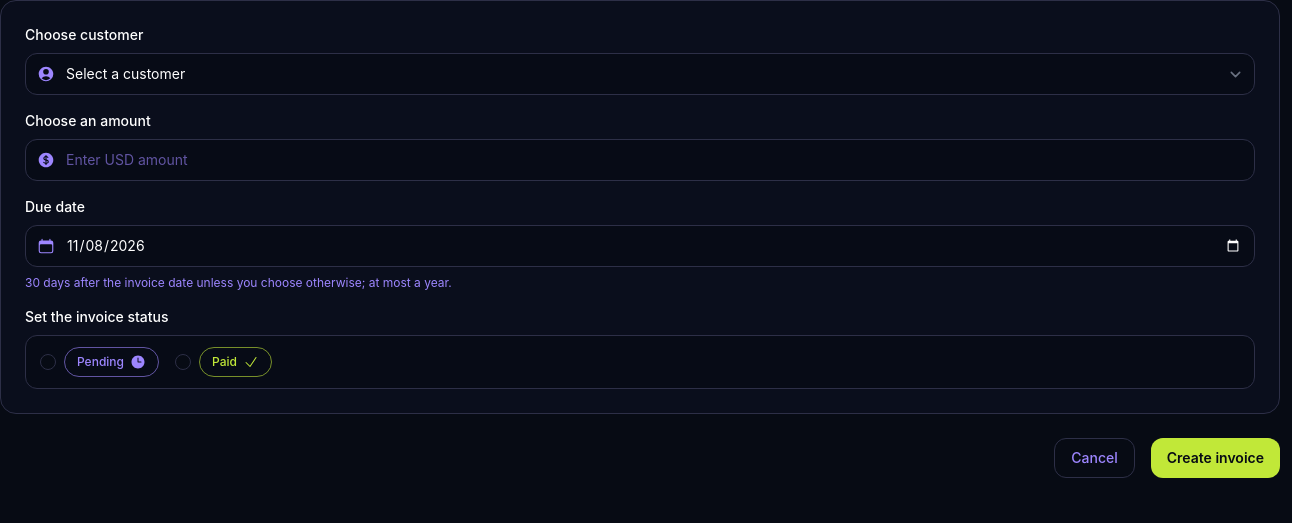
Scenario: the invoice create form › refuses a zero amount alone: the fields filled in are not errors
Select "Amy Burns" in the dropdown labelled "Choose customer" at (640, 74), box left=25, top=53, right=1255, bottom=95
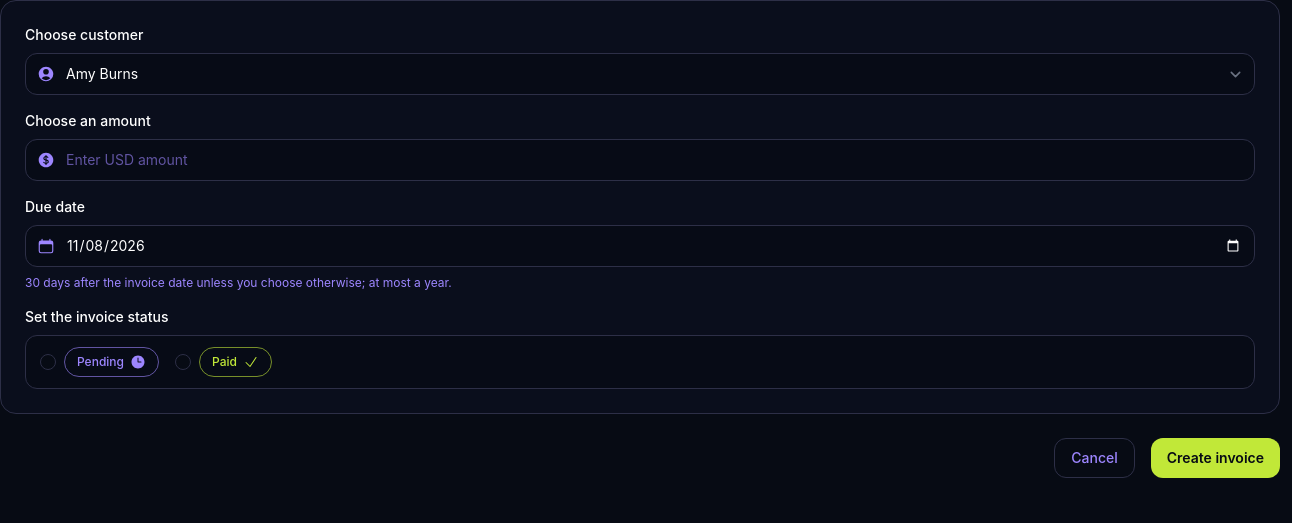
Type "0" into the number field labelled "Choose an amount" at (640, 160), box left=25, top=139, right=1255, bottom=181
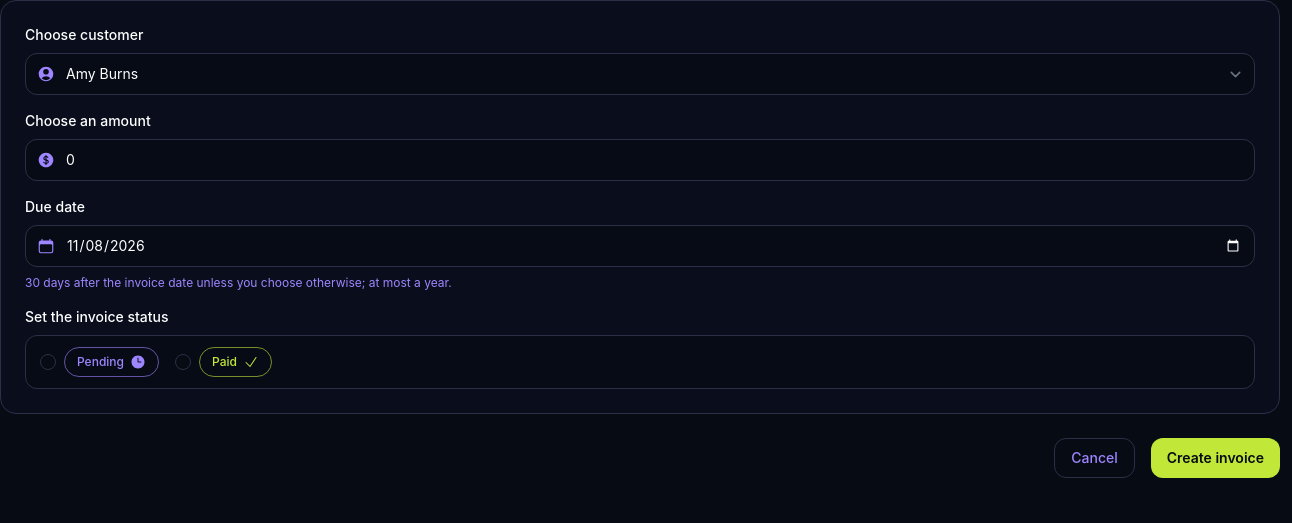
Click the radio button labelled "Paid" at (183, 362), box left=175, top=354, right=191, bottom=370
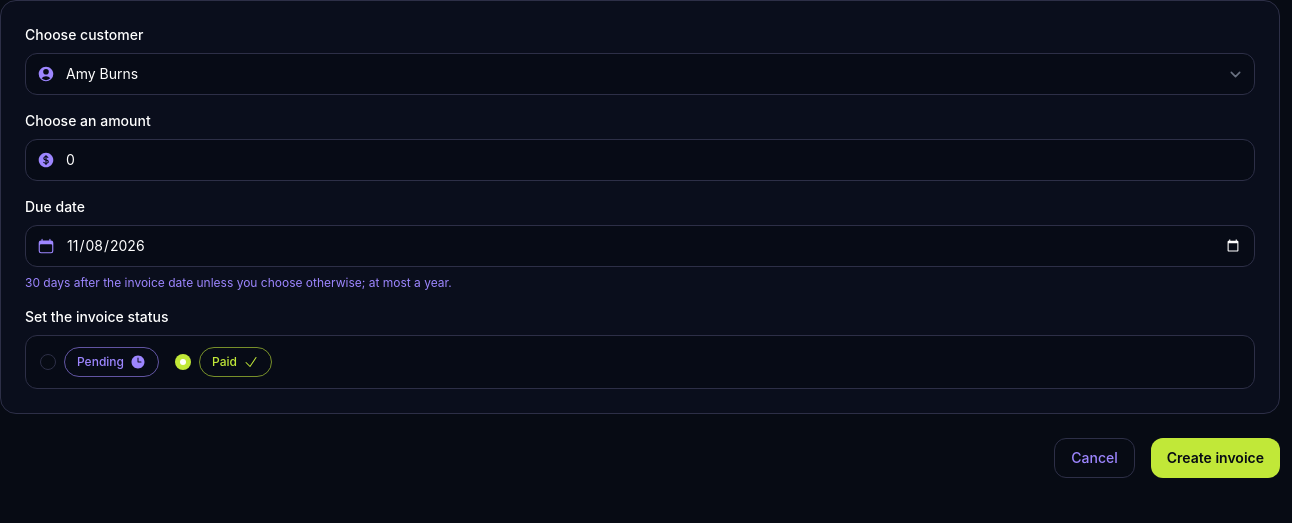
Click the button "Create invoice" at (1215, 458), box left=1151, top=438, right=1280, bottom=478
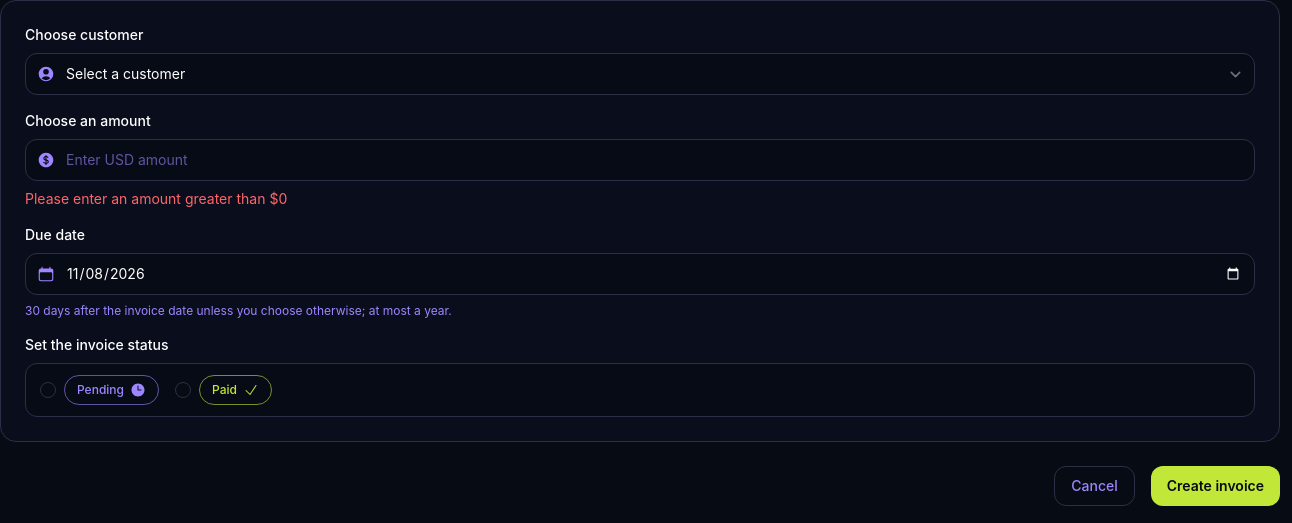
Expected: the element with id "amount-error" is shown, left=25, top=190, right=287, bottom=207
